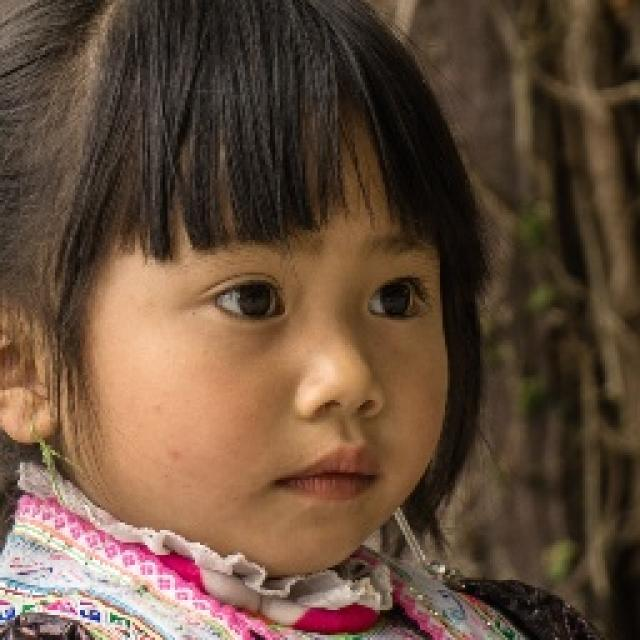earlobe: (0, 275, 64, 445)
